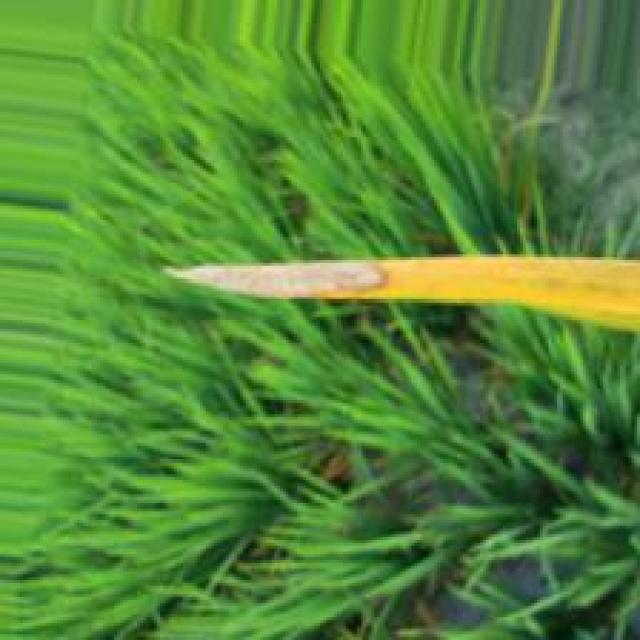Leaf_Scald: (187, 255, 401, 298)
